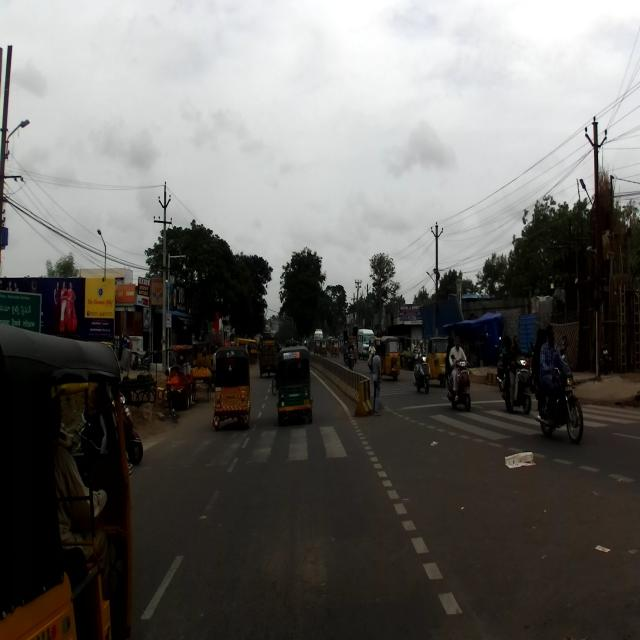autorickshaw: (0, 318, 133, 638)
motorcycle_Hero: (534, 365, 584, 446)
scooter: (115, 393, 144, 464), (500, 356, 532, 415), (445, 354, 471, 412)
